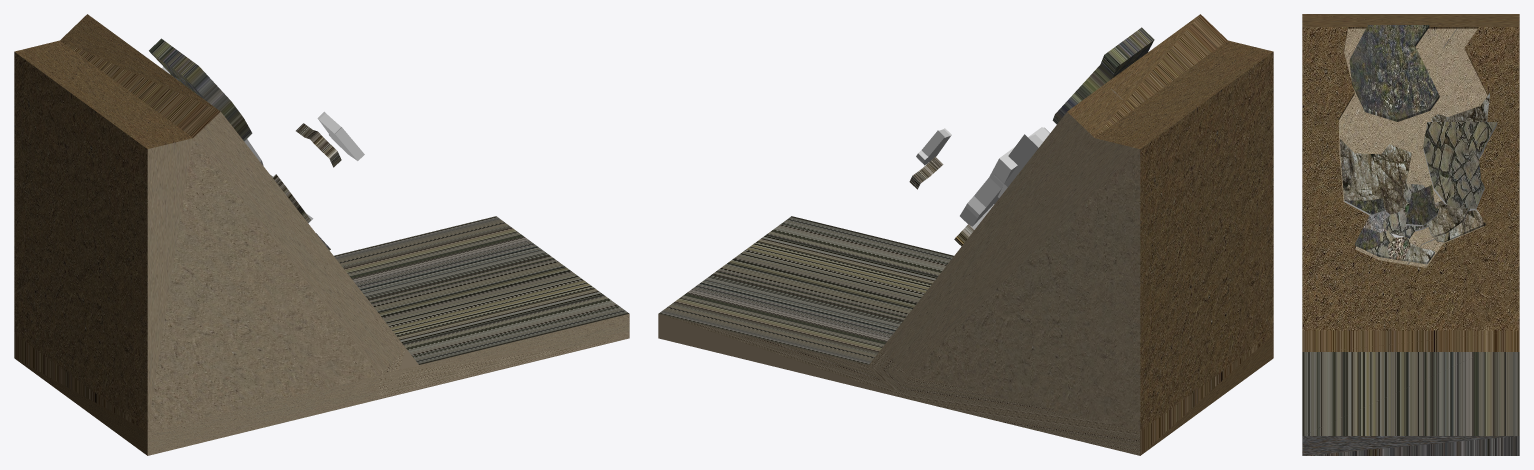
The picture shows the model from 3 angles, left to right: view 1: azimuth 30°, elevation 25°; view 2: azimuth 150°, elevation 25°; view 3: azimuth 270°, elevation 25°; orthographic projection. The views are drawn at different scales.
Parts seen in each view (by area): view 1: node_Box002_-1176, node_xzg-2_-1126; view 2: node_Box002_-1176, node_xzg-2_-1126; view 3: node_Box002_-1176, node_xzg-2_-1126.
Part boxes in pixels (x1,y1,x2,y2): node_Box002_-1176: [14, 14, 629, 455]; node_xzg-2_-1126: [149, 38, 364, 250]; node_Box002_-1176: [658, 14, 1273, 455]; node_xzg-2_-1126: [909, 27, 1154, 246]; node_Box002_-1176: [1302, 14, 1519, 455]; node_xzg-2_-1126: [1340, 25, 1497, 264].
Bounding box in the file's own units: 3.18 × 2.13 × 1.52.
